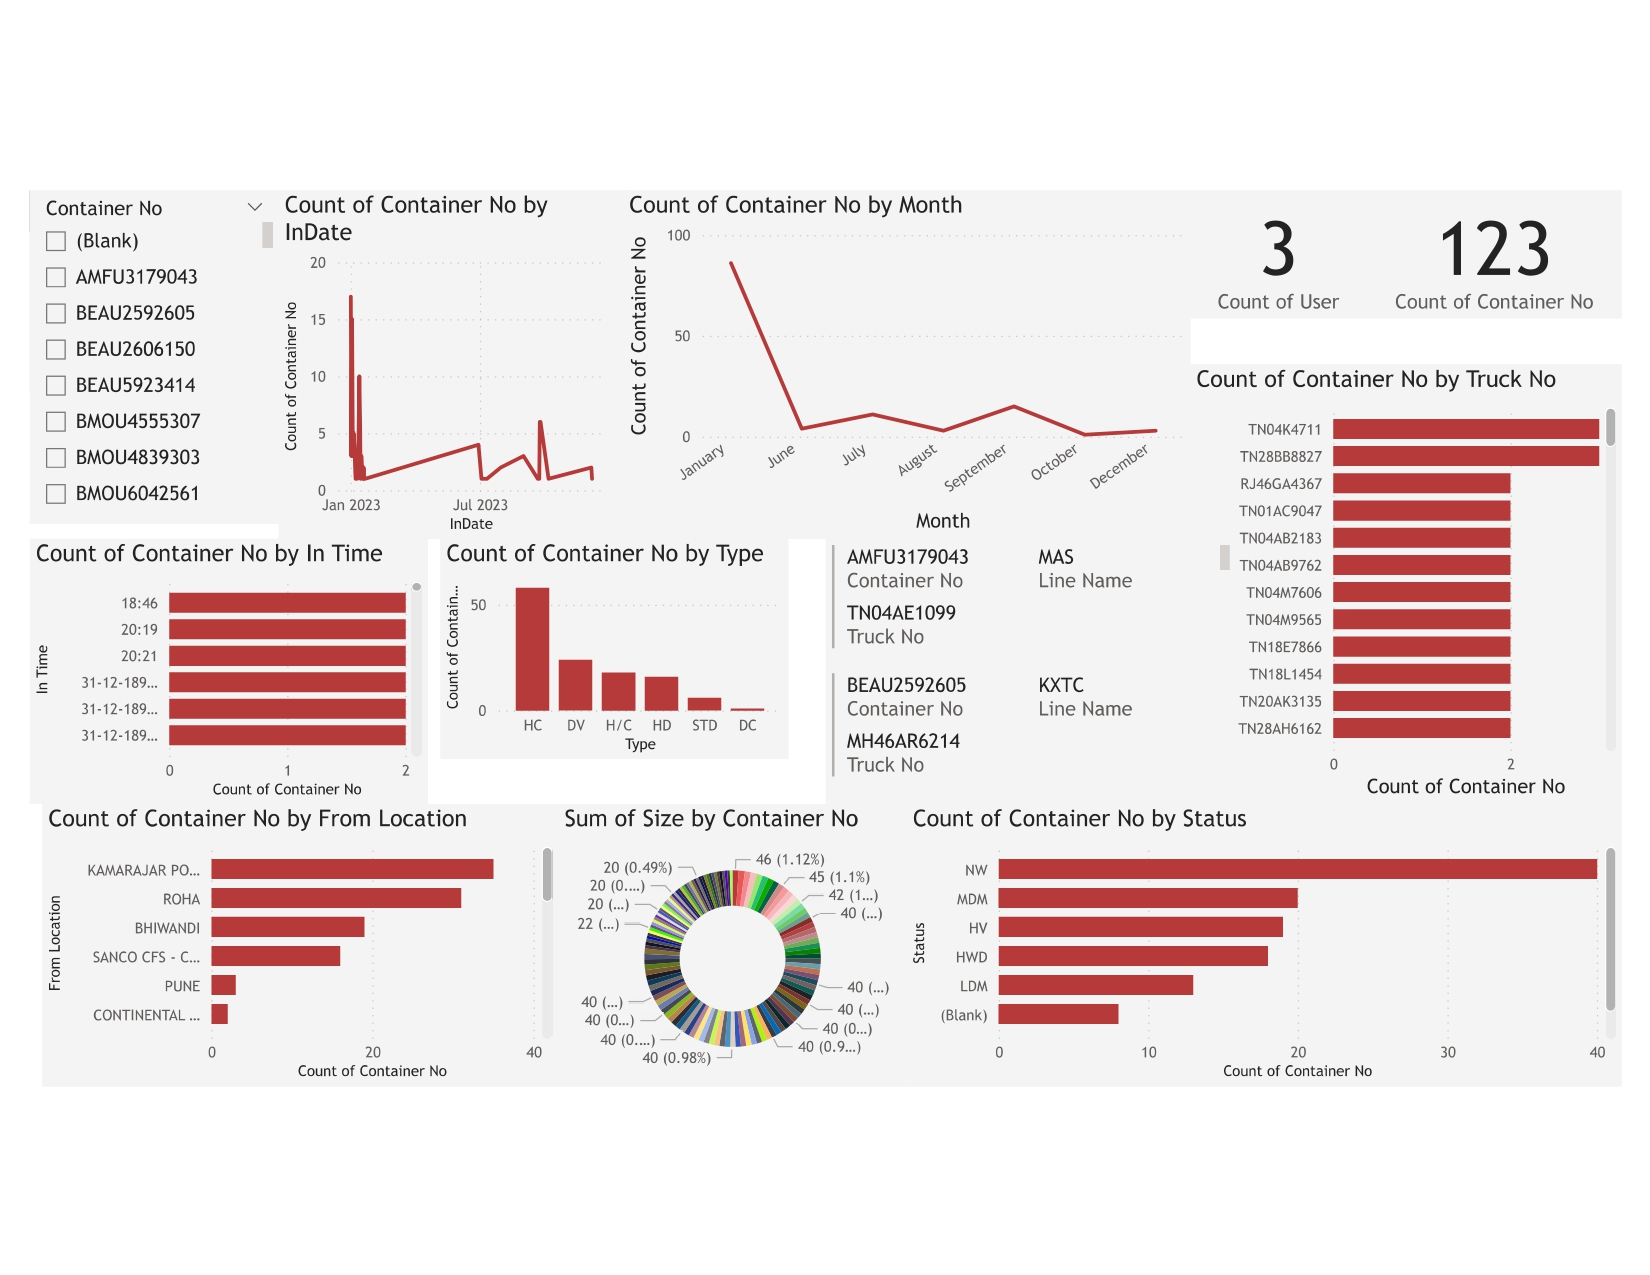

This screenshot's page, from the dashboard's own definition file:
{"tool":"powerbi","page":{"name":"In","canvas":[1280,720],"ordinal":0},"visuals":[{"type":"lineChart","fields":{"Category":["IN (2).InDate"],"Y":["CountNonNull(IN (2).Container No)"]},"box":[10,0,280,280],"z":0},{"type":"donutChart","fields":{"Y":["Sum(IN (2).Size)"],"Category":["IN (2).Container No"]},"box":[360,494,280,226],"z":1000},{"type":"columnChart","fields":{"Category":["IN (2).Type"],"Y":["CountNonNull(IN (2).Container No)"]},"box":[330,306,280,150],"z":2000},{"type":"barChart","fields":{"Category":["IN (2).Truck No"],"Y":["CountNonNull(IN (2).Container No)"]},"box":[994,426,286,262],"z":3000},{"type":"lineChart","fields":{"Category":["IN (2).InDate.Variation.Date Hierarchy.Month"],"Y":["CountNonNull(IN (2).Container No)"]},"box":[570,0,456,280],"z":4000},{"type":"card","fields":{"Values":["CountNonNull(IN (2).Container No)"]},"box":[1072,0,192,132],"z":5000},{"type":"slicer","fields":{"Values":["IN (2).Container No"]},"box":[320,6,200,300],"z":6000},{"type":"barChart","fields":{"Y":["Count(IN (2).Container No)"],"Category":["IN (2).In Time"]},"box":[0,280,320,290],"z":7000},{"type":"barChart","fields":{"Y":["CountNonNull(IN (2).Container No)"],"Category":["IN (2).From Location"]},"box":[10,570,320,150],"z":8000},{"type":"multiRowCard","fields":{"Values":["IN (2).Container No","IN (2).Line Name","IN (2).Truck No"]},"box":[640,306,330,188],"z":9000},{"type":"barChart","fields":{"Category":["IN (2).Status"],"Y":["CountNonNull(IN (2).Container No)"]},"box":[684,494,286,226],"z":10000},{"type":"card","fields":{"Values":["Count(IN (2).User)"]},"box":[930,0,142,132],"z":11000}]}

Visuals, with their boxes on the page's 1280x720 design canvas (x1, y1, x2, y2). These are canvas units, not pixel positions in the 1650x1275 screenshot, which may show the page scaled, cropped or inside an application window:
lineChart - IN (2).InDate x CountNonNull(IN (2).Container No): (10, 0, 290, 280)
donutChart - Sum(IN (2).Size) x IN (2).Container No: (360, 494, 640, 720)
columnChart - IN (2).Type x CountNonNull(IN (2).Container No): (330, 306, 610, 456)
barChart - IN (2).Truck No x CountNonNull(IN (2).Container No): (994, 426, 1280, 688)
lineChart - IN (2).InDate.Variation.Date Hierarchy.Month x CountNonNull(IN (2).Container No): (570, 0, 1026, 280)
card - CountNonNull(IN (2).Container No): (1072, 0, 1264, 132)
slicer - IN (2).Container No: (320, 6, 520, 306)
barChart - Count(IN (2).Container No) x IN (2).In Time: (0, 280, 320, 570)
barChart - CountNonNull(IN (2).Container No) x IN (2).From Location: (10, 570, 330, 720)
multiRowCard - IN (2).Container No x IN (2).Line Name: (640, 306, 970, 494)
barChart - IN (2).Status x CountNonNull(IN (2).Container No): (684, 494, 970, 720)
card - Count(IN (2).User): (930, 0, 1072, 132)
